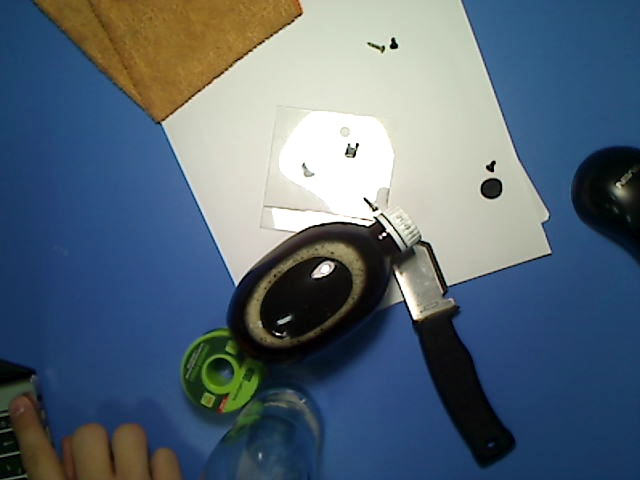plast_bottle: (224, 201, 426, 368)
